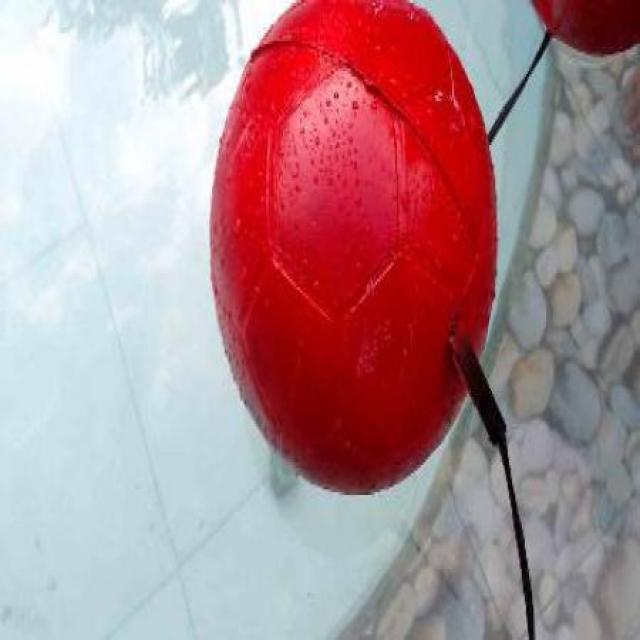buoy: (207, 1, 497, 496)
